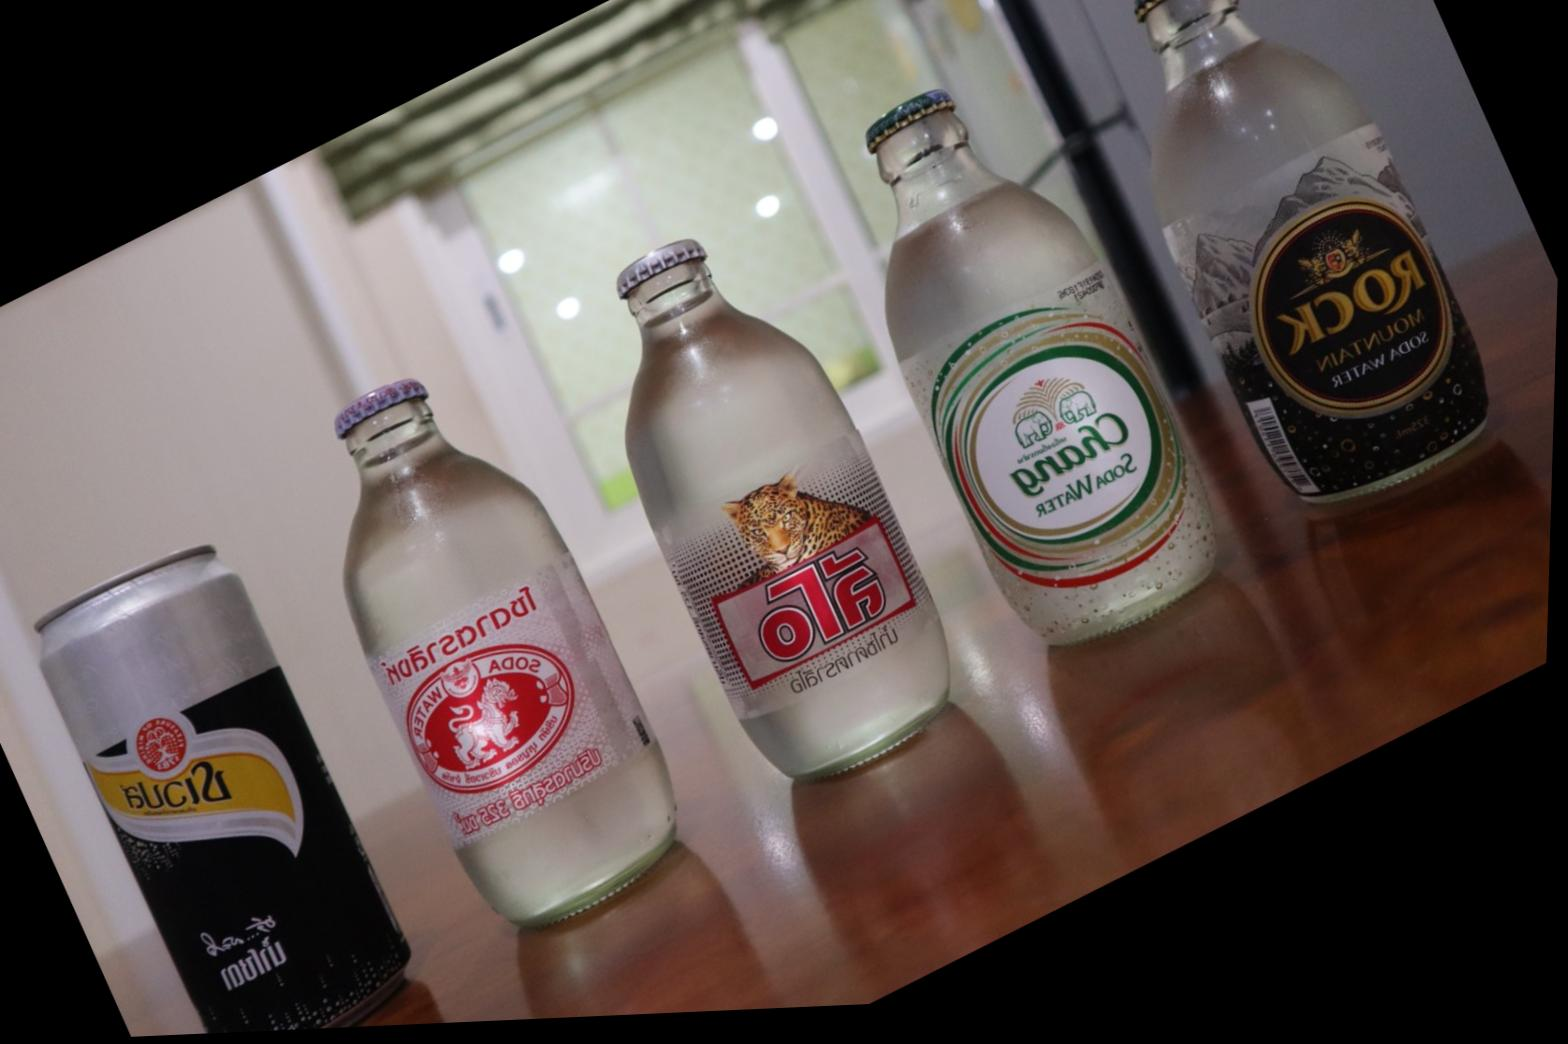glass: (1036, 0, 1556, 514), (867, 89, 1213, 644), (336, 381, 674, 927), (617, 240, 947, 778)
